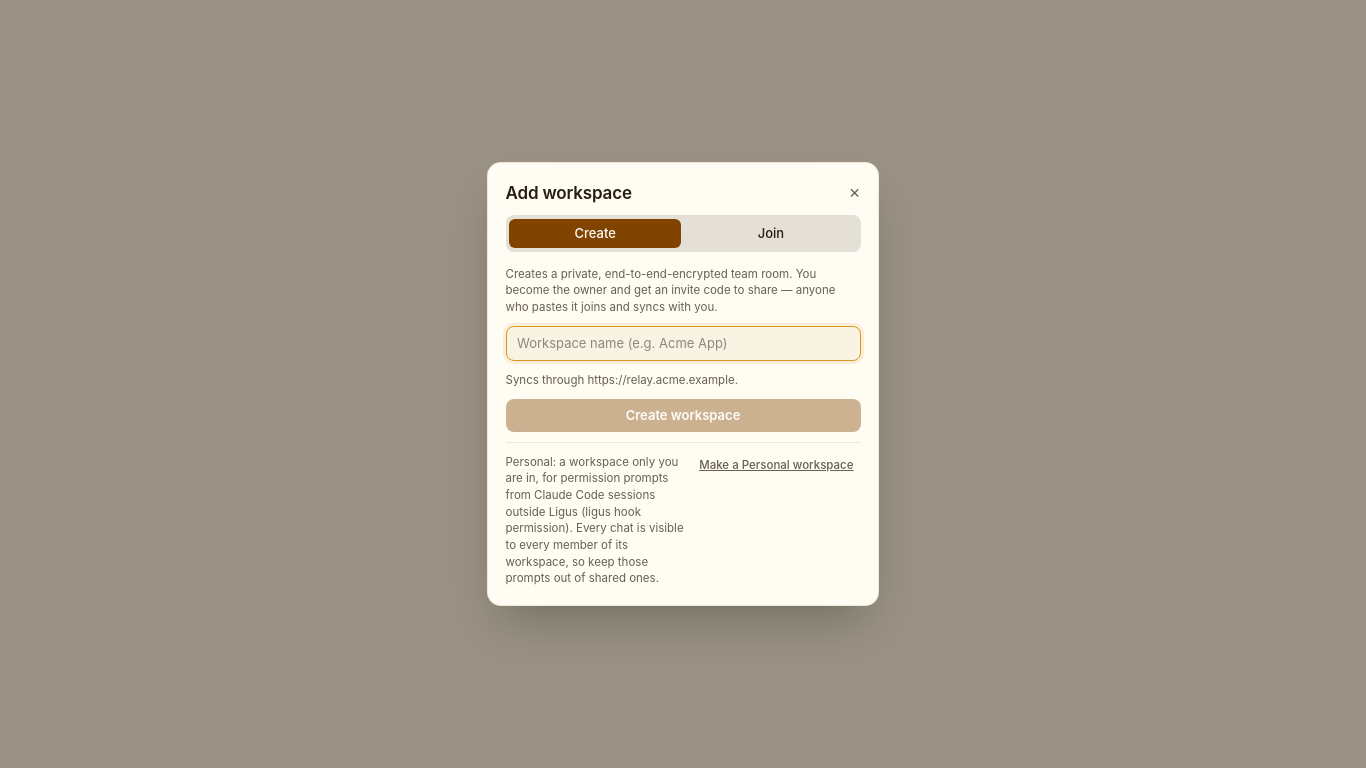
Test: AddWorkspaceModal invite guard › opens the link screen from the hint, and Back returns
Click the button "Join".
click(771, 234)  # box [685,219,857,248]
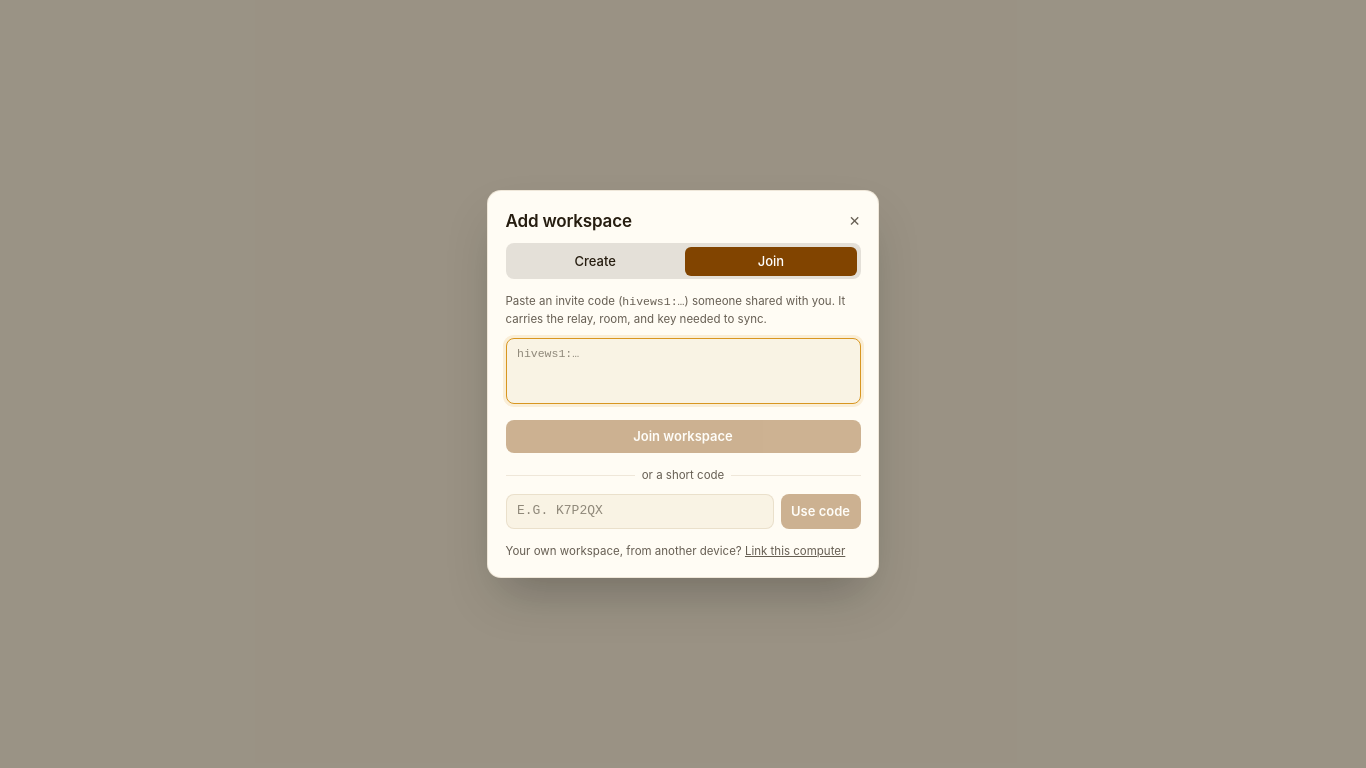
Type "K7P2QX" into the field with placeholder "e.g. K7P2QX".
click(640, 511); type("K7P2QX")  # box [506,494,774,529]
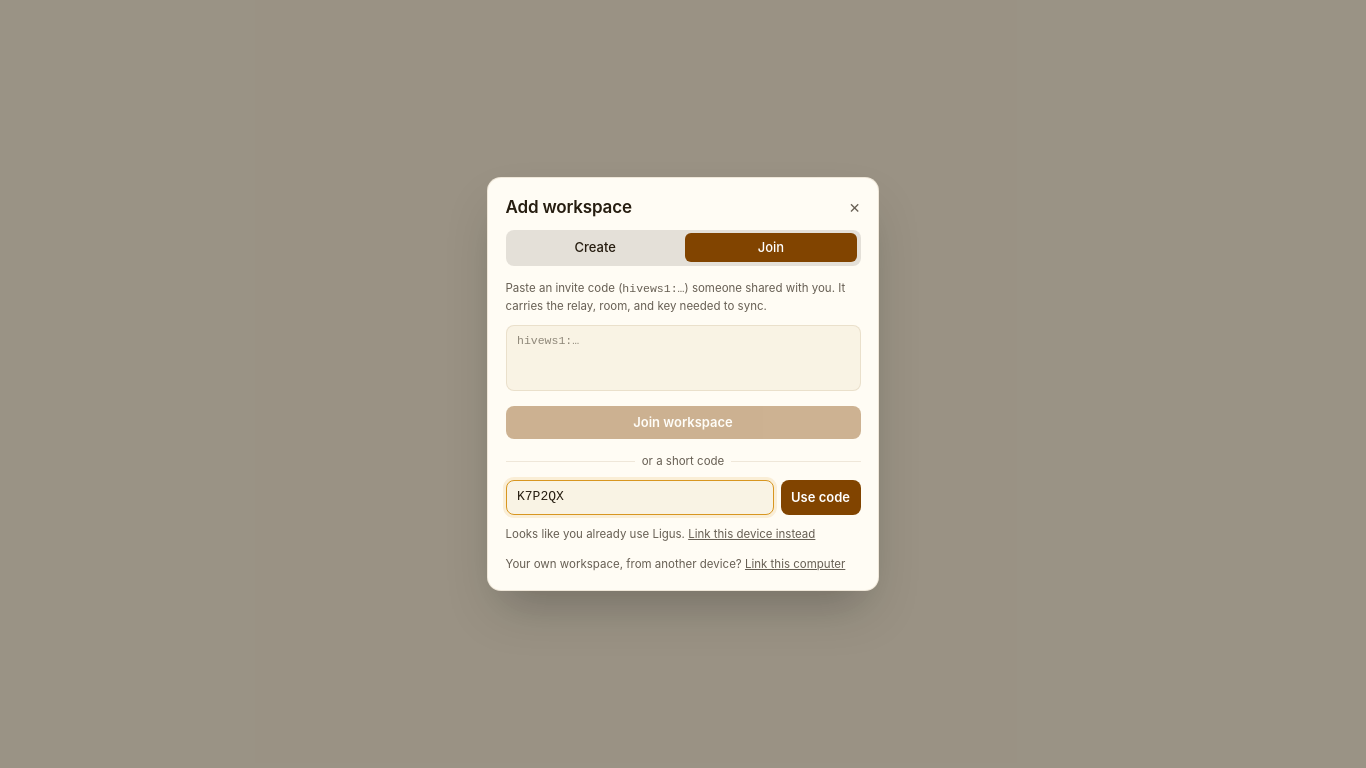
Click the button "Link this device instead".
click(752, 534)  # box [688,526,815,542]
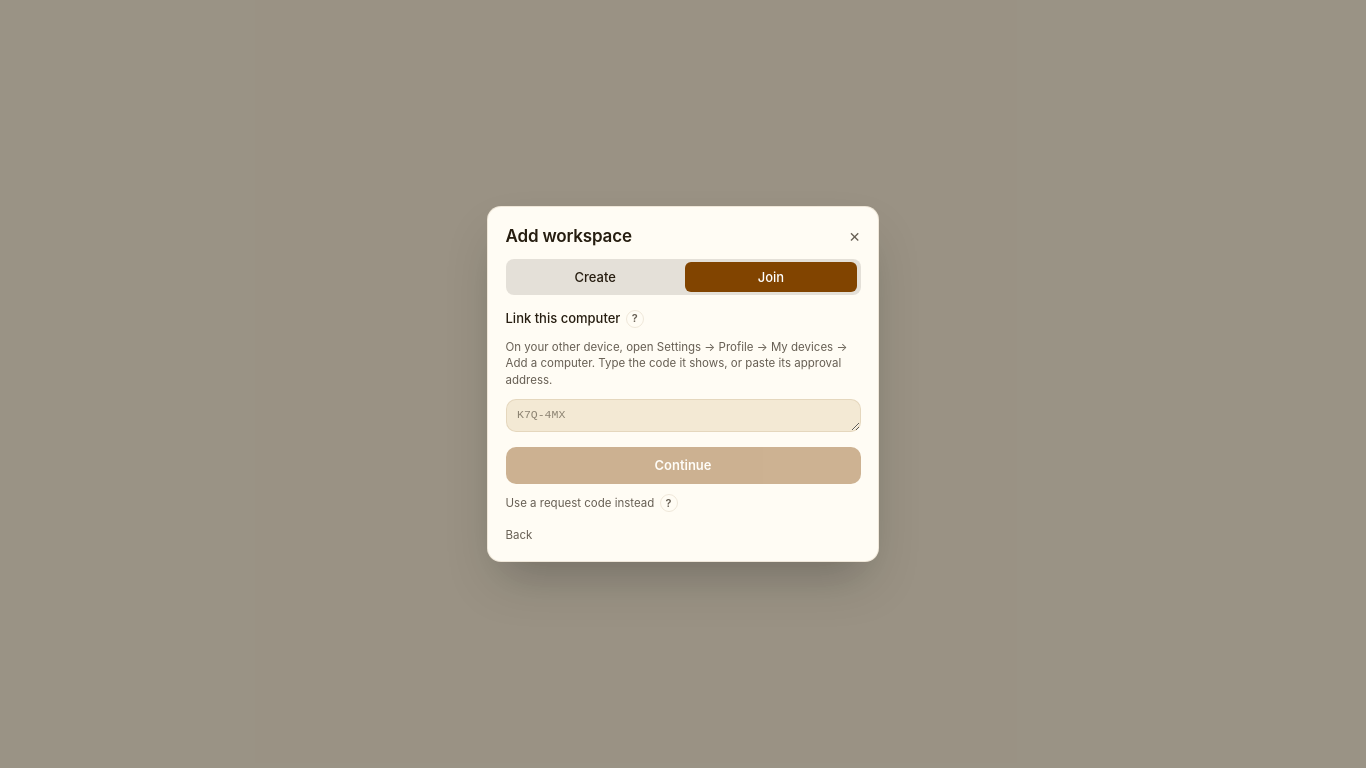
Check: the element with test id "link-this-device" is shown, box [506,309,860,544]
Click the button "Back".
click(519, 535)  # box [506,527,532,543]
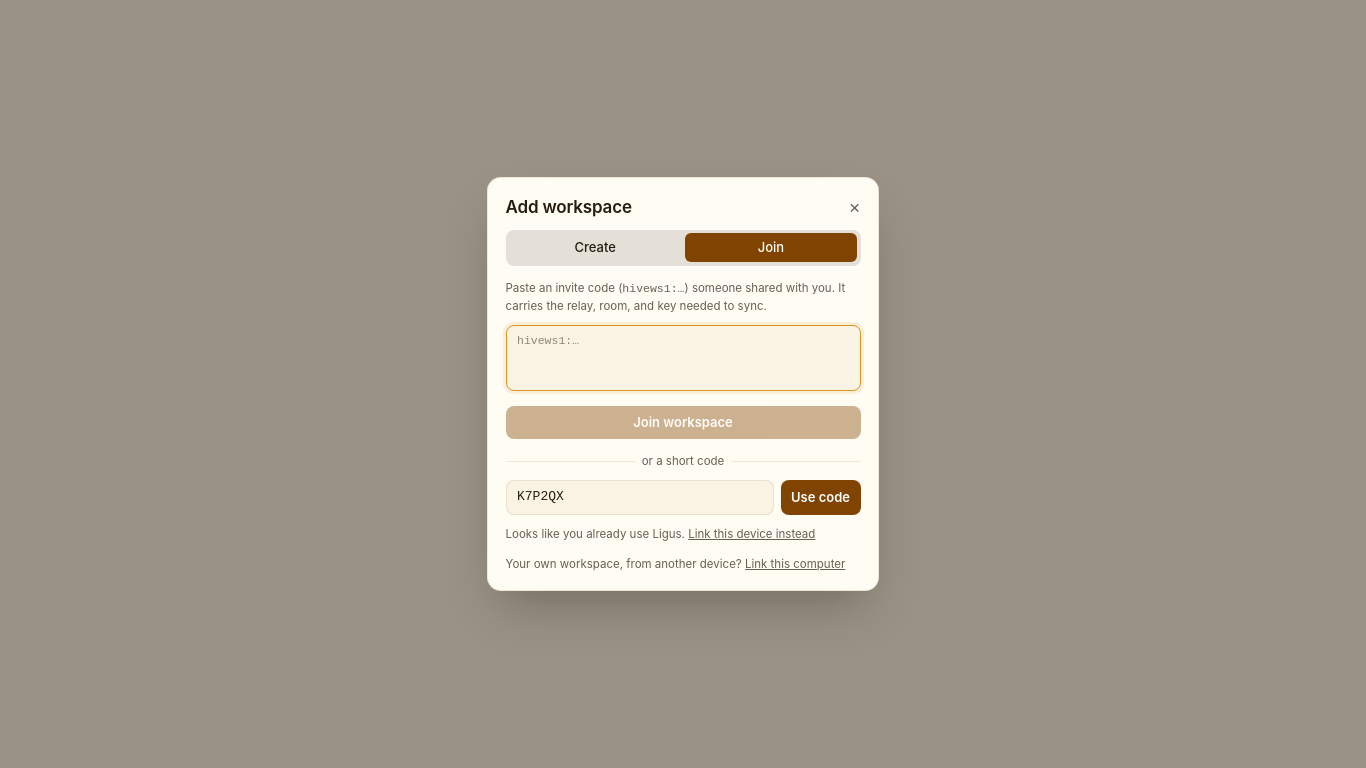
Check: the field with placeholder "e.g. K7P2QX" is shown, box [506,480,774,515]
